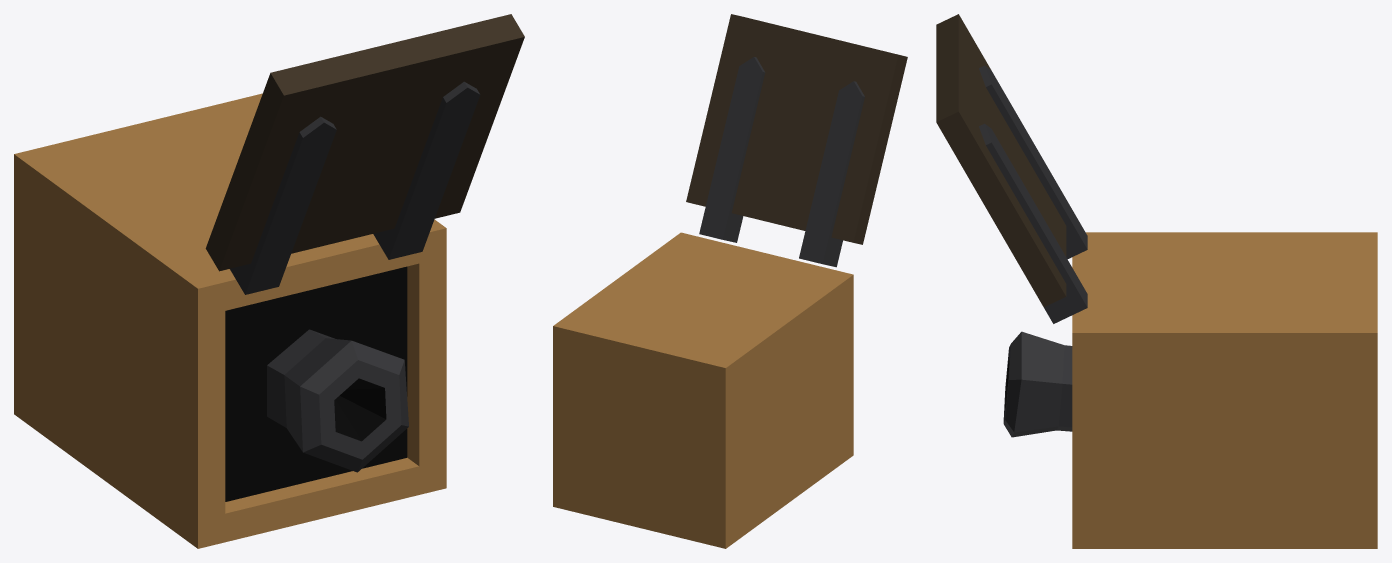
File: SM_Veh_Extra_Gun_01.glb
The picture shows the model from 3 angles, left to right: view 1: azimuth 30°, elevation 25°; view 2: azimuth 150°, elevation 25°; view 3: azimuth 270°, elevation 25°; orthographic projection. The views are drawn at different scales.
Parts seen in each view (by area): view 1: SM_Veh_Extra_Gun_01_Barrel; view 2: SM_Veh_Extra_Gun_01_Barrel; view 3: SM_Veh_Extra_Gun_01_Barrel.
Part boxes in pixels (x1,y1,x2,y2): SM_Veh_Extra_Gun_01_Barrel: (14, 14, 524, 548); SM_Veh_Extra_Gun_01_Barrel: (553, 14, 907, 548); SM_Veh_Extra_Gun_01_Barrel: (936, 14, 1377, 548).
Bounding box in the file's own units: 0.0086 × 0.0174 × 0.0159.
